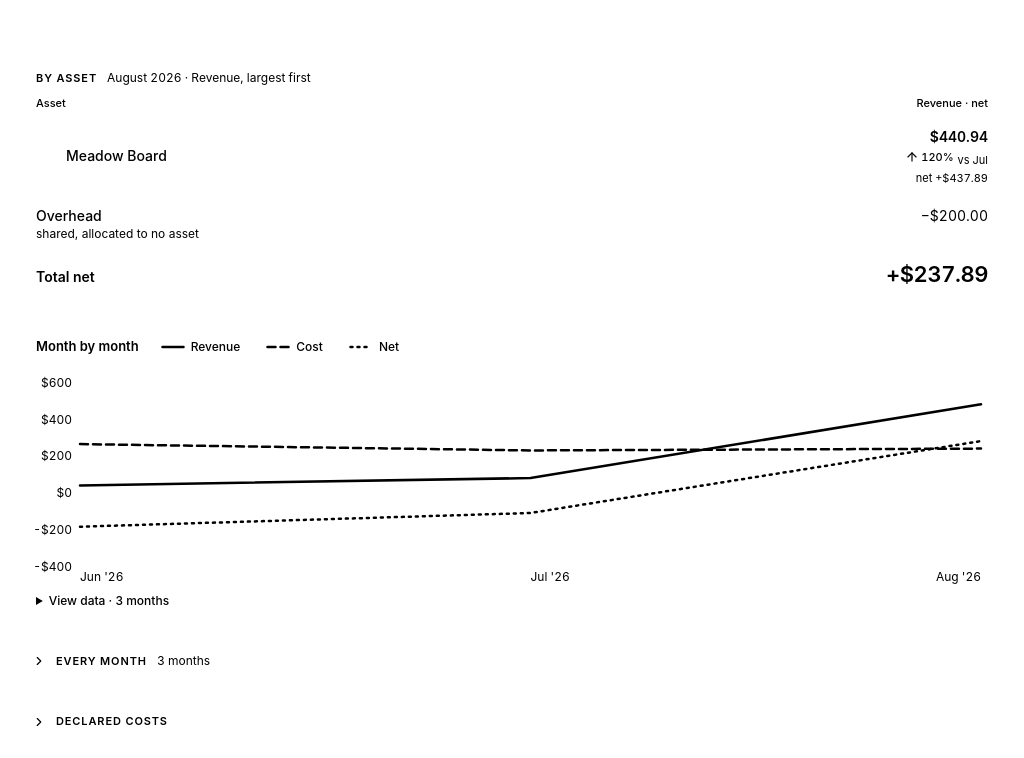
Test case: /financials — the first screen answers the whole question › declares the month as its hero, draws the months, and keeps the month table in its disclosure
(page scrolled)
Check: the element that starts with "Month by month" is shown, box x1=36 y1=337 x2=988 y2=609
Click the button "Every month 3 months" at (101, 661), box x1=16 y1=641 x2=1008 y2=681
(page scrolled)
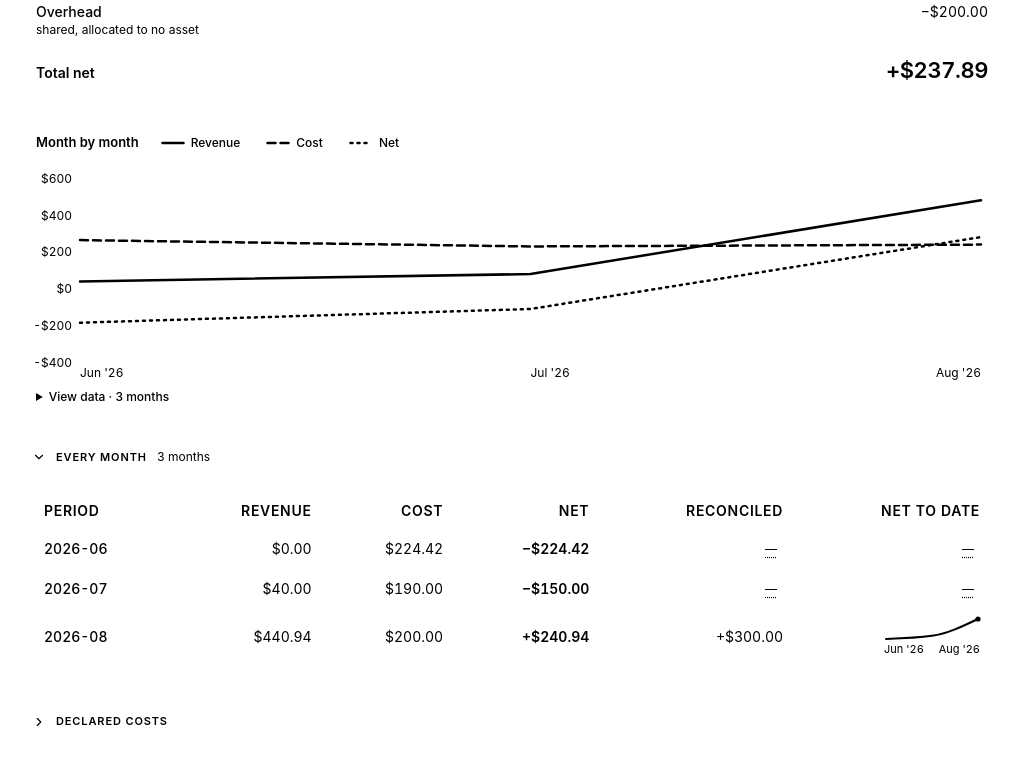
Check: the table named "Line: reported monthly values, not averaged. 2026-06 to 2026" is shown, box x1=32 y1=493 x2=992 y2=665
Check: the element showing "Jun '26 Aug '26" is shown, box x1=884 y1=641 x2=980 y2=657
